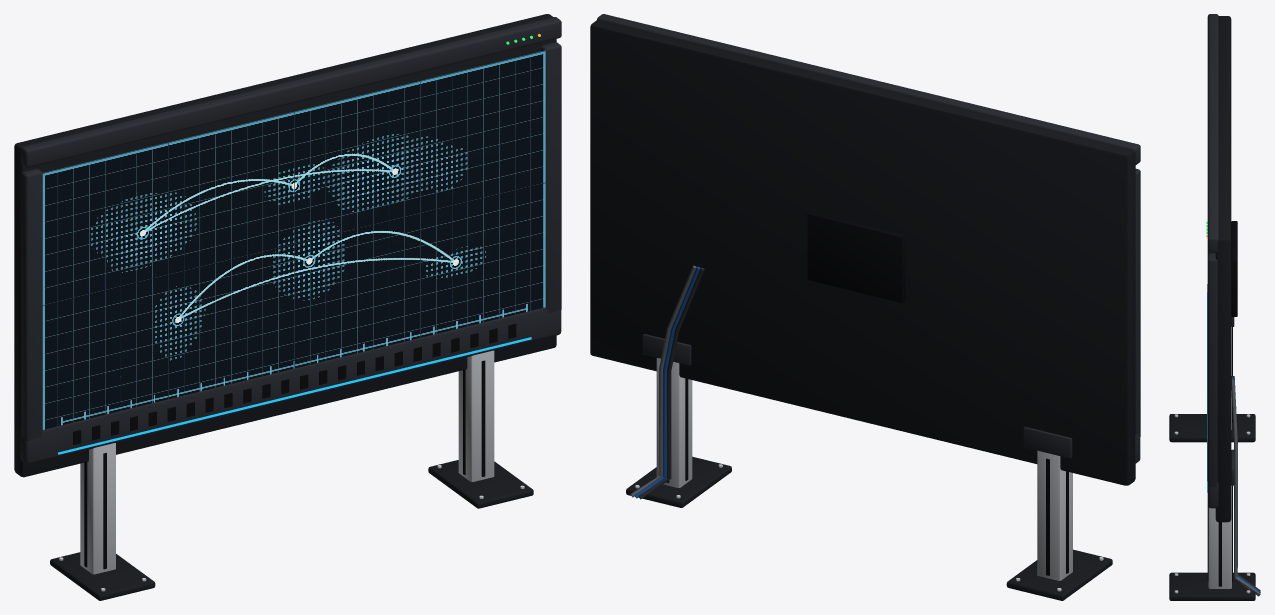
Rendered from digital_map.glb.
3 views of the same model, side by side, from view 1: azimuth 30°, elevation 25°; view 2: azimuth 150°, elevation 25°; view 3: azimuth 270°, elevation 25° (orthographic). The views are drawn at different scales.
Parts seen in each view (by area): view 1: mapScreen, digitalMapBody; view 2: digitalMapBody; view 3: digitalMapBody.
Boxes of the visible parts, left/top/right/bottom form: mapScreen: left=42, top=50, right=545, bottom=429; digitalMapBody: left=14, top=14, right=561, bottom=600; digitalMapBody: left=590, top=14, right=1140, bottom=600; digitalMapBody: left=1169, top=14, right=1260, bottom=600.
Bounding box in the file's own units: 3.4 × 2.71 × 0.5818.
12 materials, 2 textured.
